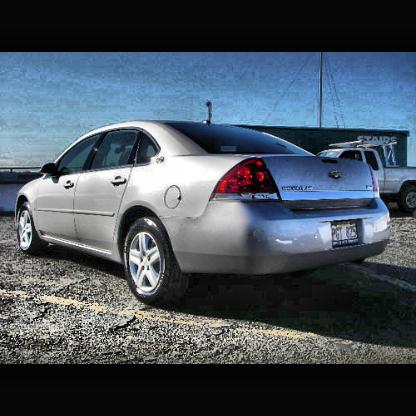Chevrolet Impala Sedan 2007: (15, 103, 394, 306)
